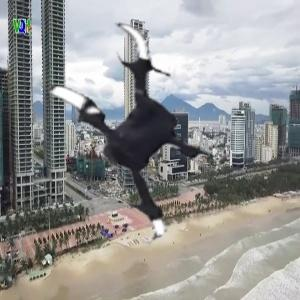drone: (9, 19, 235, 245)
